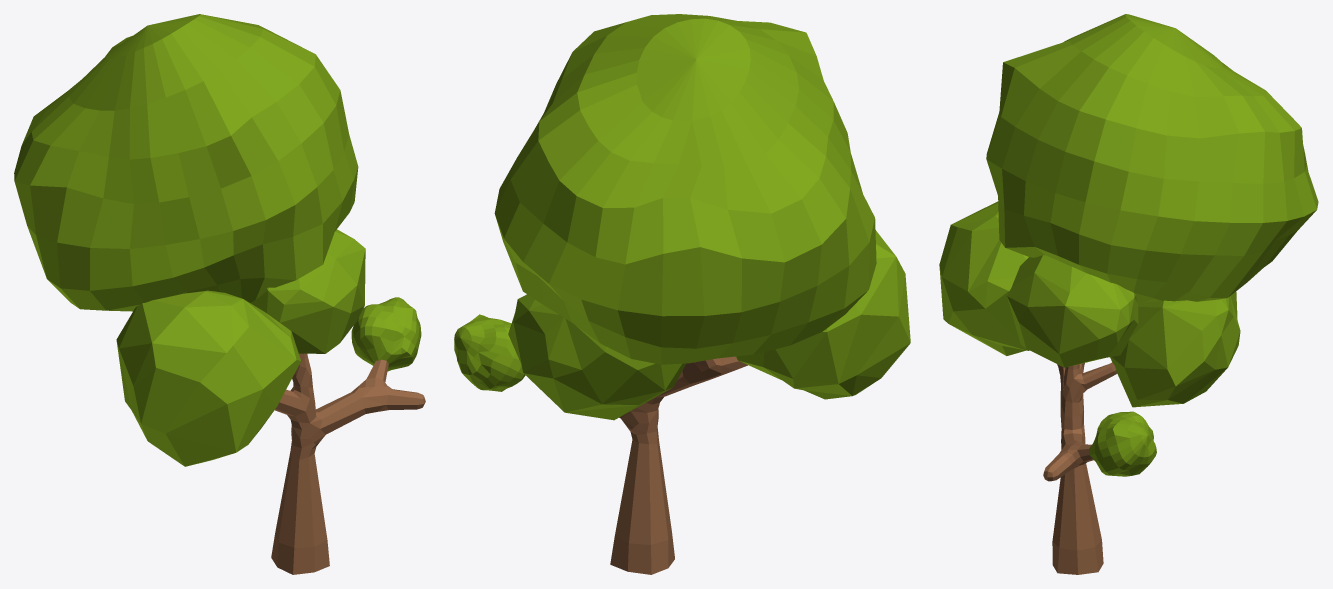
The model's file is Tree22214653.fbx.
The picture shows the model from 3 angles, left to right: view 1: azimuth 30°, elevation 25°; view 2: azimuth 150°, elevation 25°; view 3: azimuth 270°, elevation 25°; orthographic projection. The views are drawn at different scales.
Visible parts, largest first — view 1: TREE 9; view 2: TREE 9; view 3: TREE 9.
Boxes of the visible parts, bbox=[...] form: TREE 9: bbox=[14, 14, 425, 574]; TREE 9: bbox=[454, 14, 910, 574]; TREE 9: bbox=[939, 14, 1318, 574].
Size of the model in its own units: 130 by 180 by 122.
